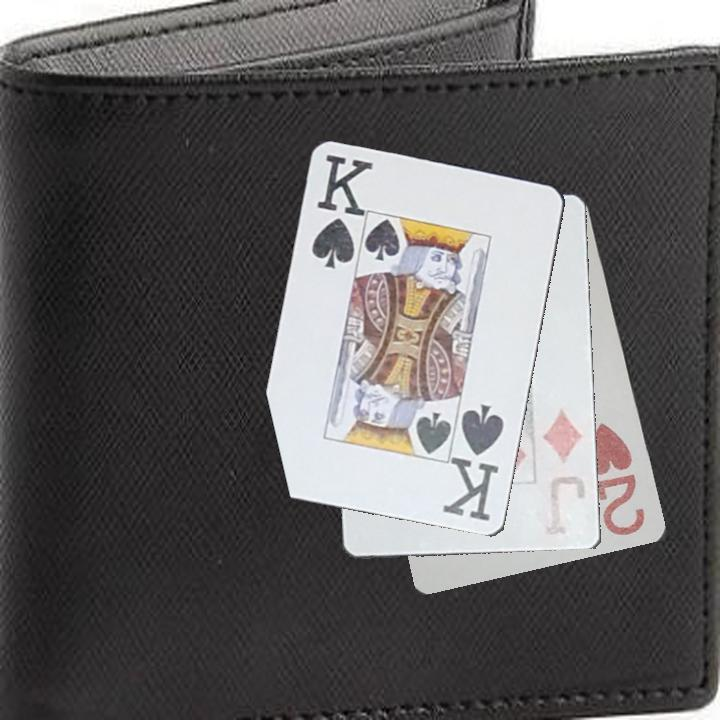2h: (585, 419, 649, 539)
Jd: (540, 406, 589, 541)
Ks: (443, 401, 507, 525), (308, 151, 373, 272)
